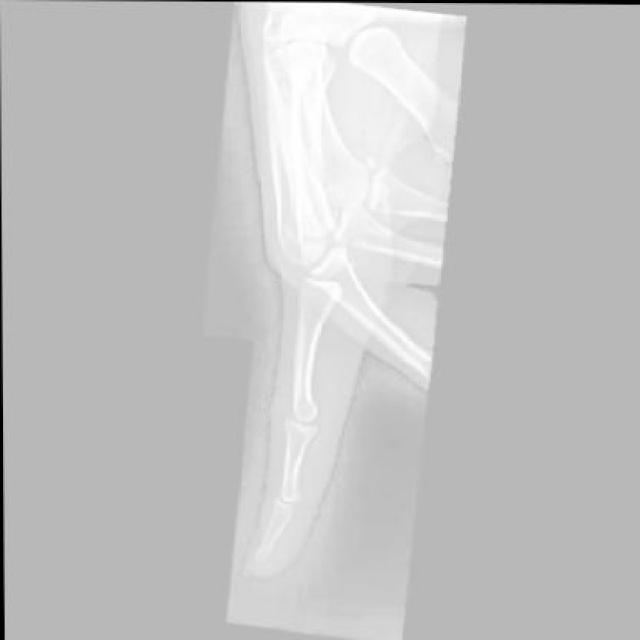Fracture: (257, 539, 279, 561)
